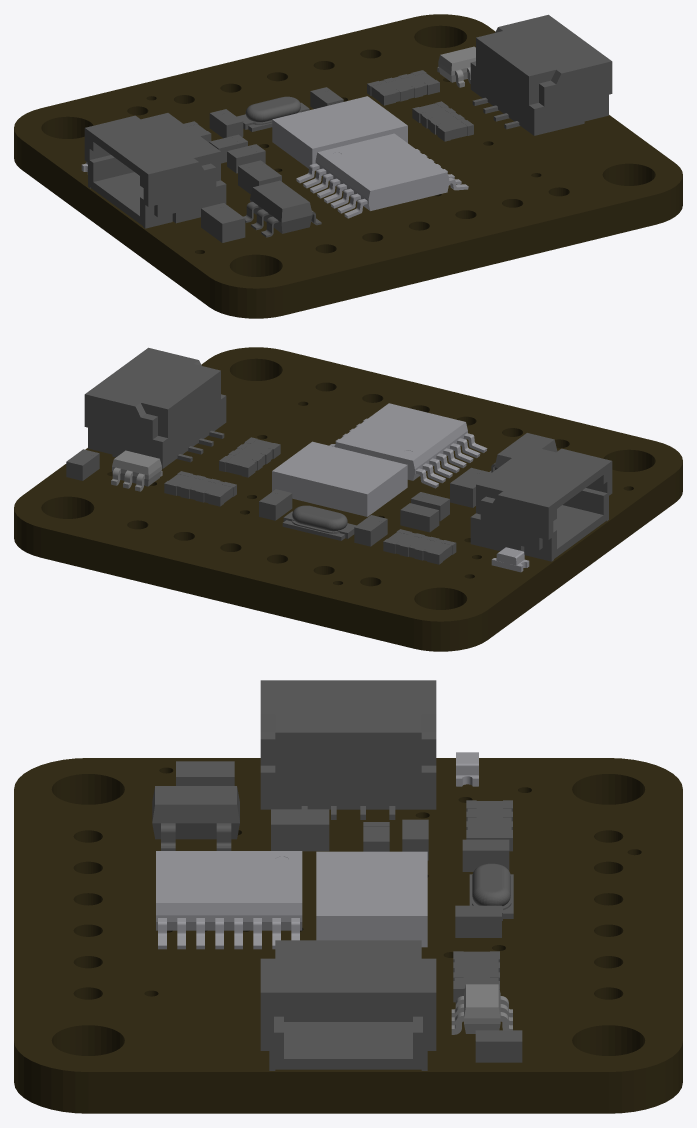
The model's file is adafruit-bno085.glb.
3 renders of one model, top to bottom at view 1: azimuth 30°, elevation 25°; view 2: azimuth 150°, elevation 25°; view 3: azimuth 270°, elevation 25°, orthographic. The views are drawn at different scales.
Visible parts, largest first — view 1: adafruit-bno085; view 2: adafruit-bno085; view 3: adafruit-bno085.
Boxes of the visible parts, <box> form: adafruit-bno085: <box>14,14,682,318</box>; adafruit-bno085: <box>14,347,682,651</box>; adafruit-bno085: <box>14,680,682,1113</box>.
Bounding box in the file's own units: 25.4 × 4.53 × 22.86.
